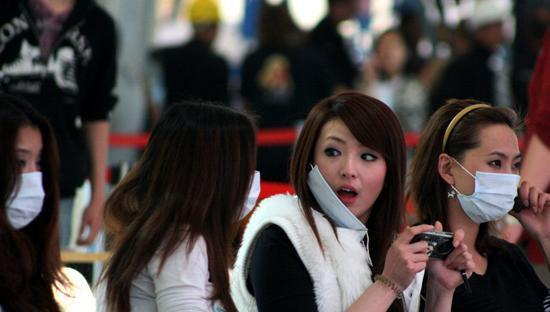OK: (448, 146, 524, 222), (1, 147, 48, 233)
WRONG: (313, 136, 384, 219)
